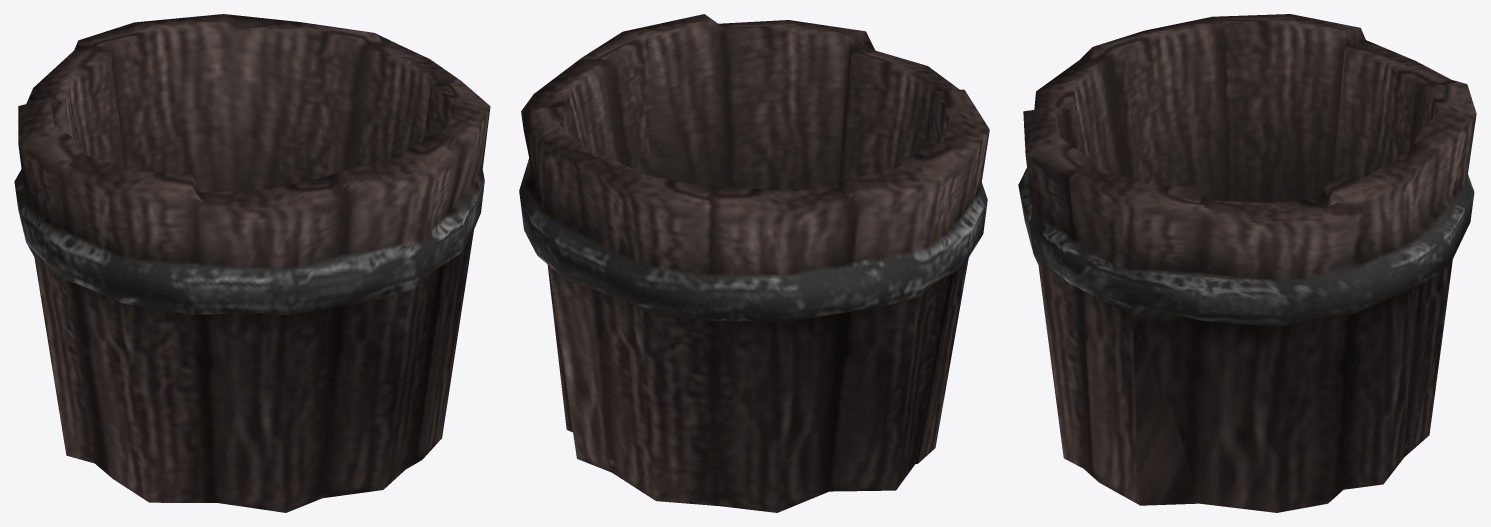
The model's file is Bucket.FBX.
The picture shows the model from 3 angles, left to right: view 1: azimuth 30°, elevation 25°; view 2: azimuth 150°, elevation 25°; view 3: azimuth 270°, elevation 25°; orthographic projection.
Parts seen in each view (by area): view 1: ZBrush_defualt_group; view 2: ZBrush_defualt_group; view 3: ZBrush_defualt_group.
Boxes of the visible parts, left/top/right/bottom form: ZBrush_defualt_group: left=14, top=14, right=490, bottom=512; ZBrush_defualt_group: left=519, top=14, right=989, bottom=512; ZBrush_defualt_group: left=1018, top=14, right=1476, bottom=512.
Size of the model in its own units: 44.57 by 43.27 by 35.21.
1 material, 1 textured.
